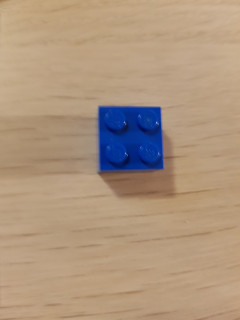2x2 blue: (94, 102, 167, 177)
